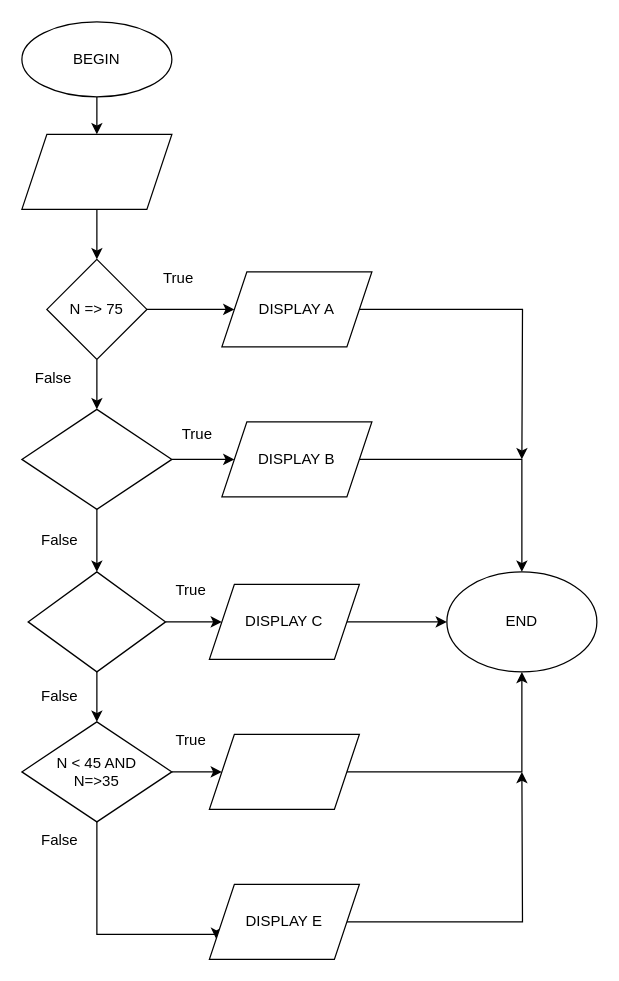
Image size: 619x981. Some labels were removed from this diagram. The shapes that lost their labels are listed below. From the top down, each one's box as (x1, y1, x2, y2) in pixels, then its label:
(21, 133, 172, 209): Nhập điểm N
(21, 408, 172, 509): N => 60
(27, 571, 166, 672): N < 60 AND N => 45
(208, 733, 359, 809): DISPLAY D
